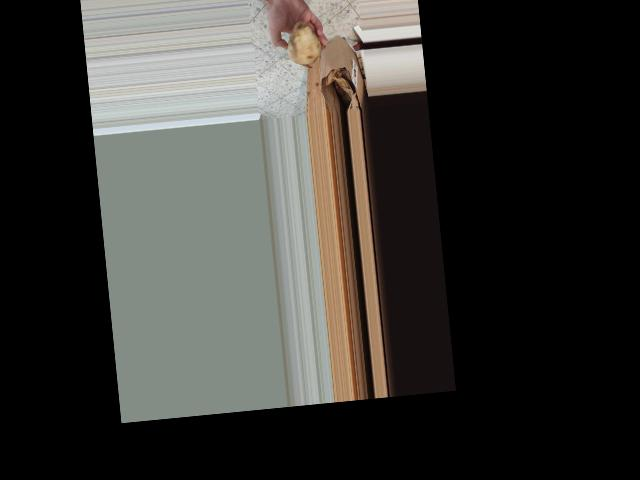onion: (282, 17, 325, 69)
